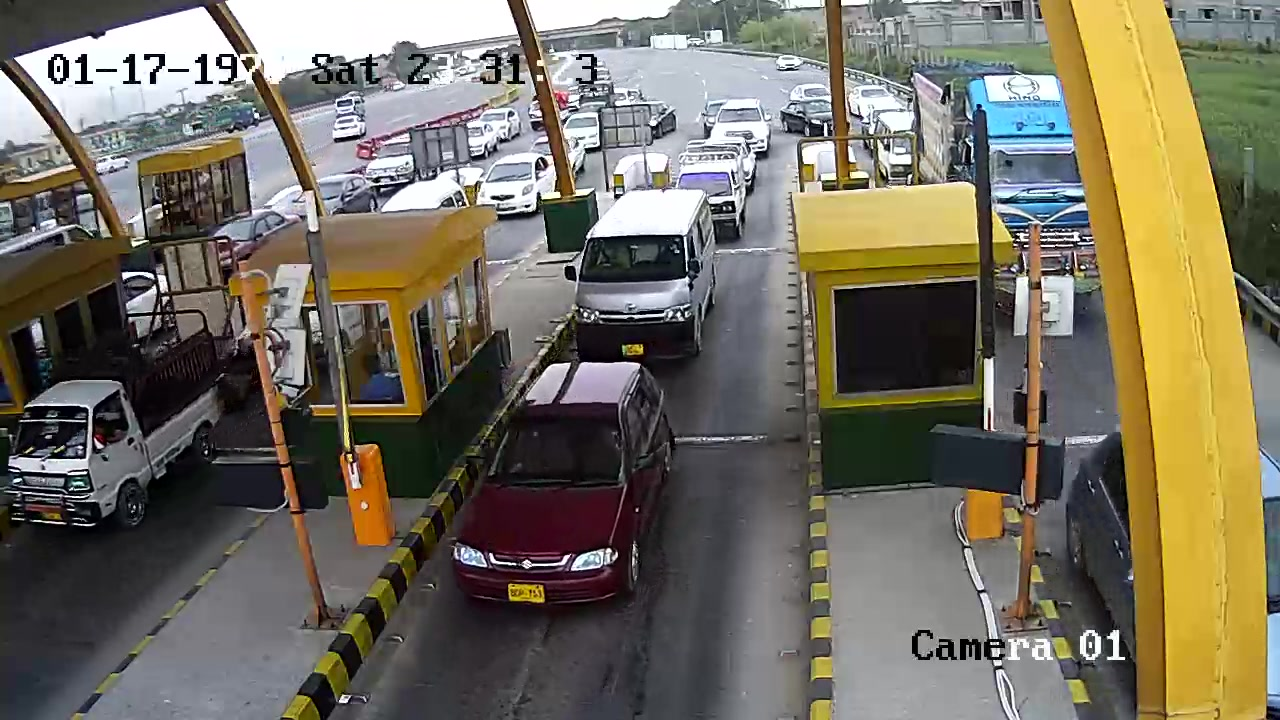F1: (454, 355, 687, 612)
